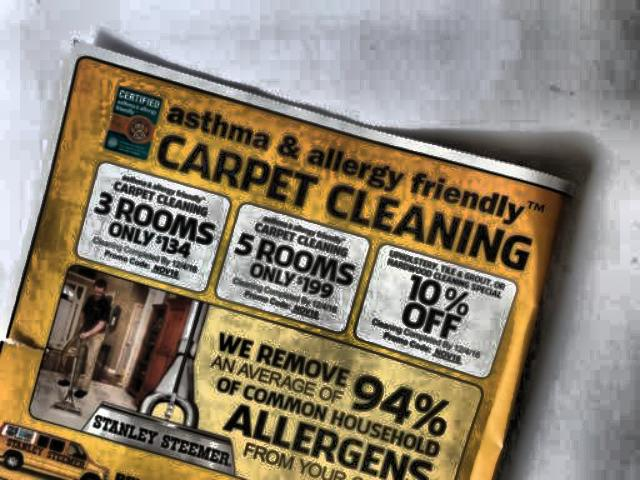Paper: (0, 26, 578, 480)
